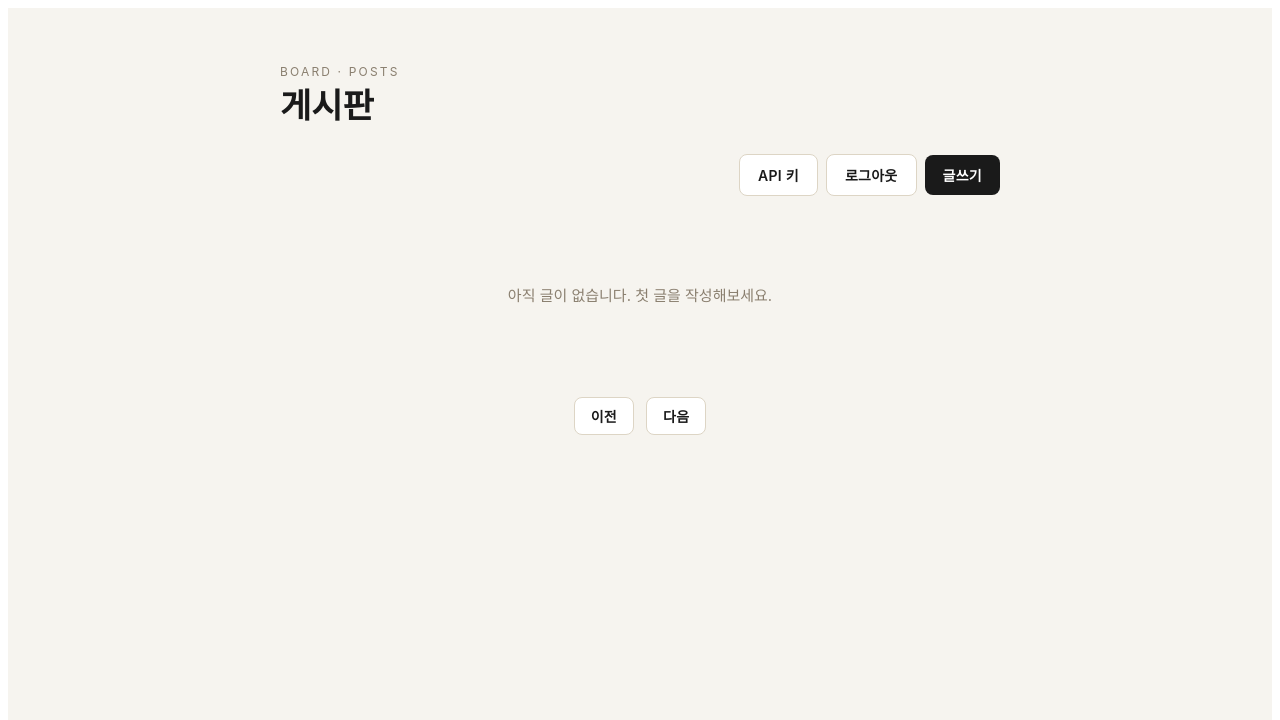
Test: PostListPage › 로그아웃_클릭_시_tokenStore가_clear되고_로그인_링크로_바뀐다
Click the button "로그아웃".
click(871, 175)  # box [826,154,916,196]
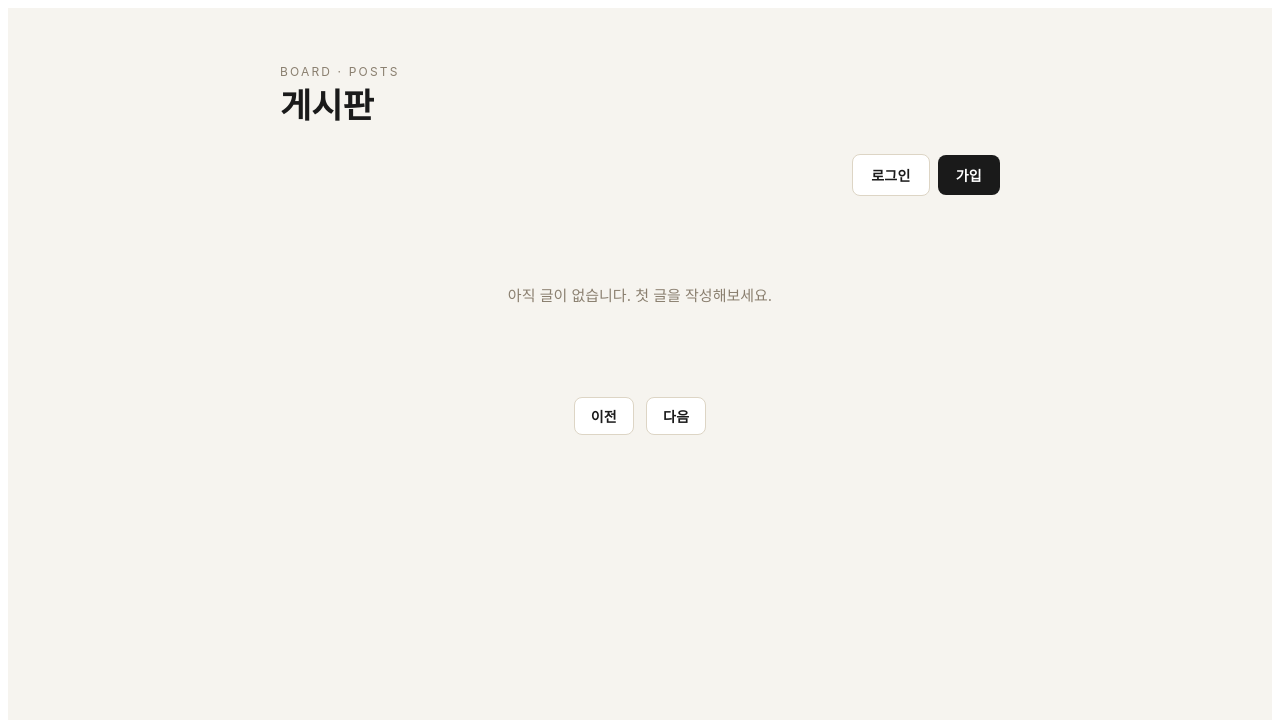
Expected: the button "로그아웃" is gone
Expected: the link "로그인" is shown, [852,154,930,196]
